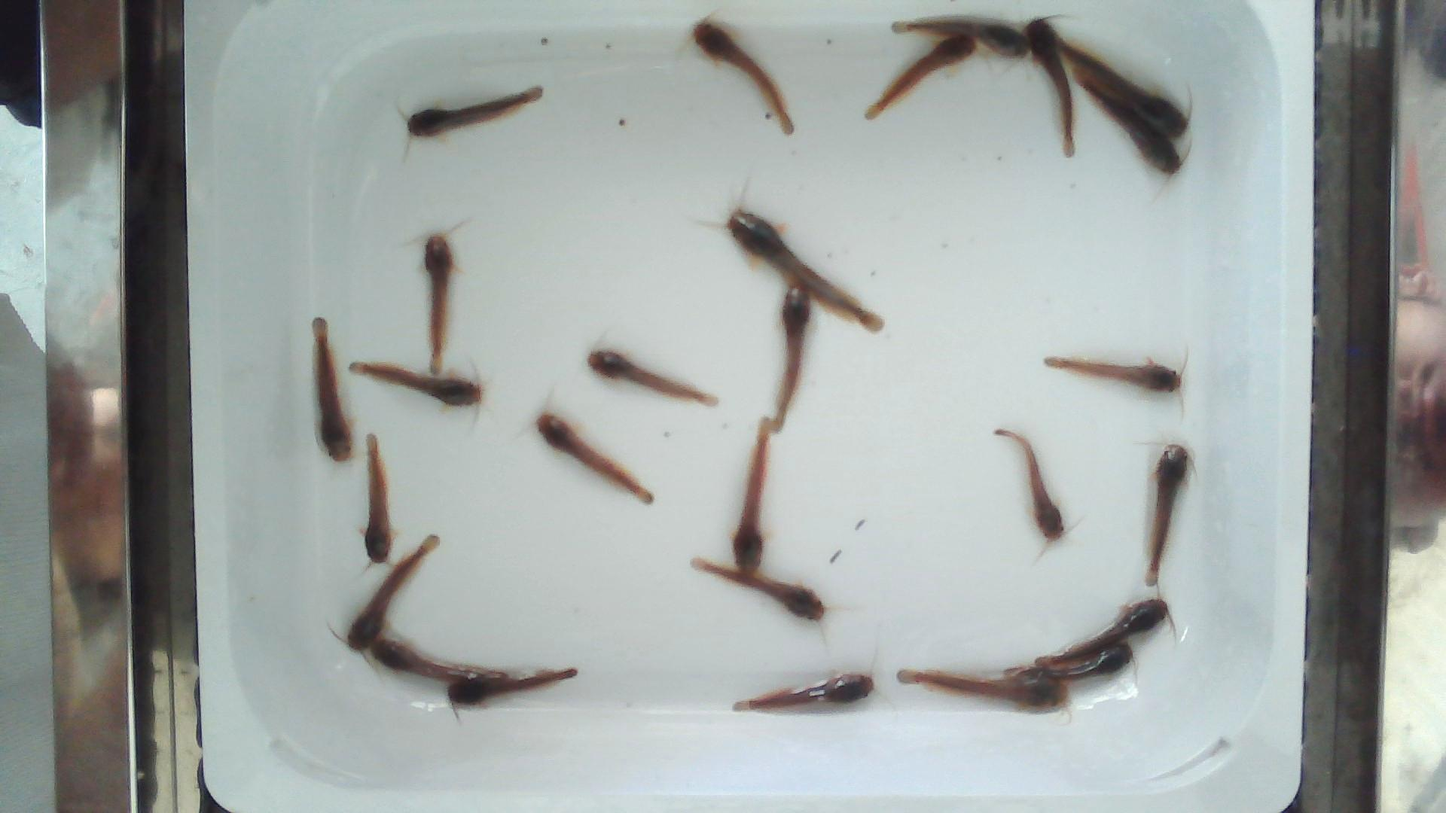lele: (727, 208, 881, 330), (1055, 31, 1186, 133), (693, 18, 793, 135), (1072, 68, 1181, 172), (347, 536, 438, 650), (537, 413, 652, 503), (1029, 599, 1168, 673), (862, 33, 976, 121), (691, 559, 824, 620), (995, 429, 1064, 541), (587, 349, 717, 404), (407, 87, 542, 136), (1027, 19, 1075, 155), (897, 670, 1067, 708), (1146, 445, 1189, 586), (772, 287, 813, 432), (349, 362, 480, 405), (313, 318, 352, 461), (891, 19, 1030, 59), (373, 640, 508, 680), (734, 673, 873, 710), (733, 431, 768, 576), (450, 667, 579, 704), (1044, 357, 1180, 391), (1006, 644, 1134, 679), (424, 233, 453, 373), (365, 434, 392, 562)
